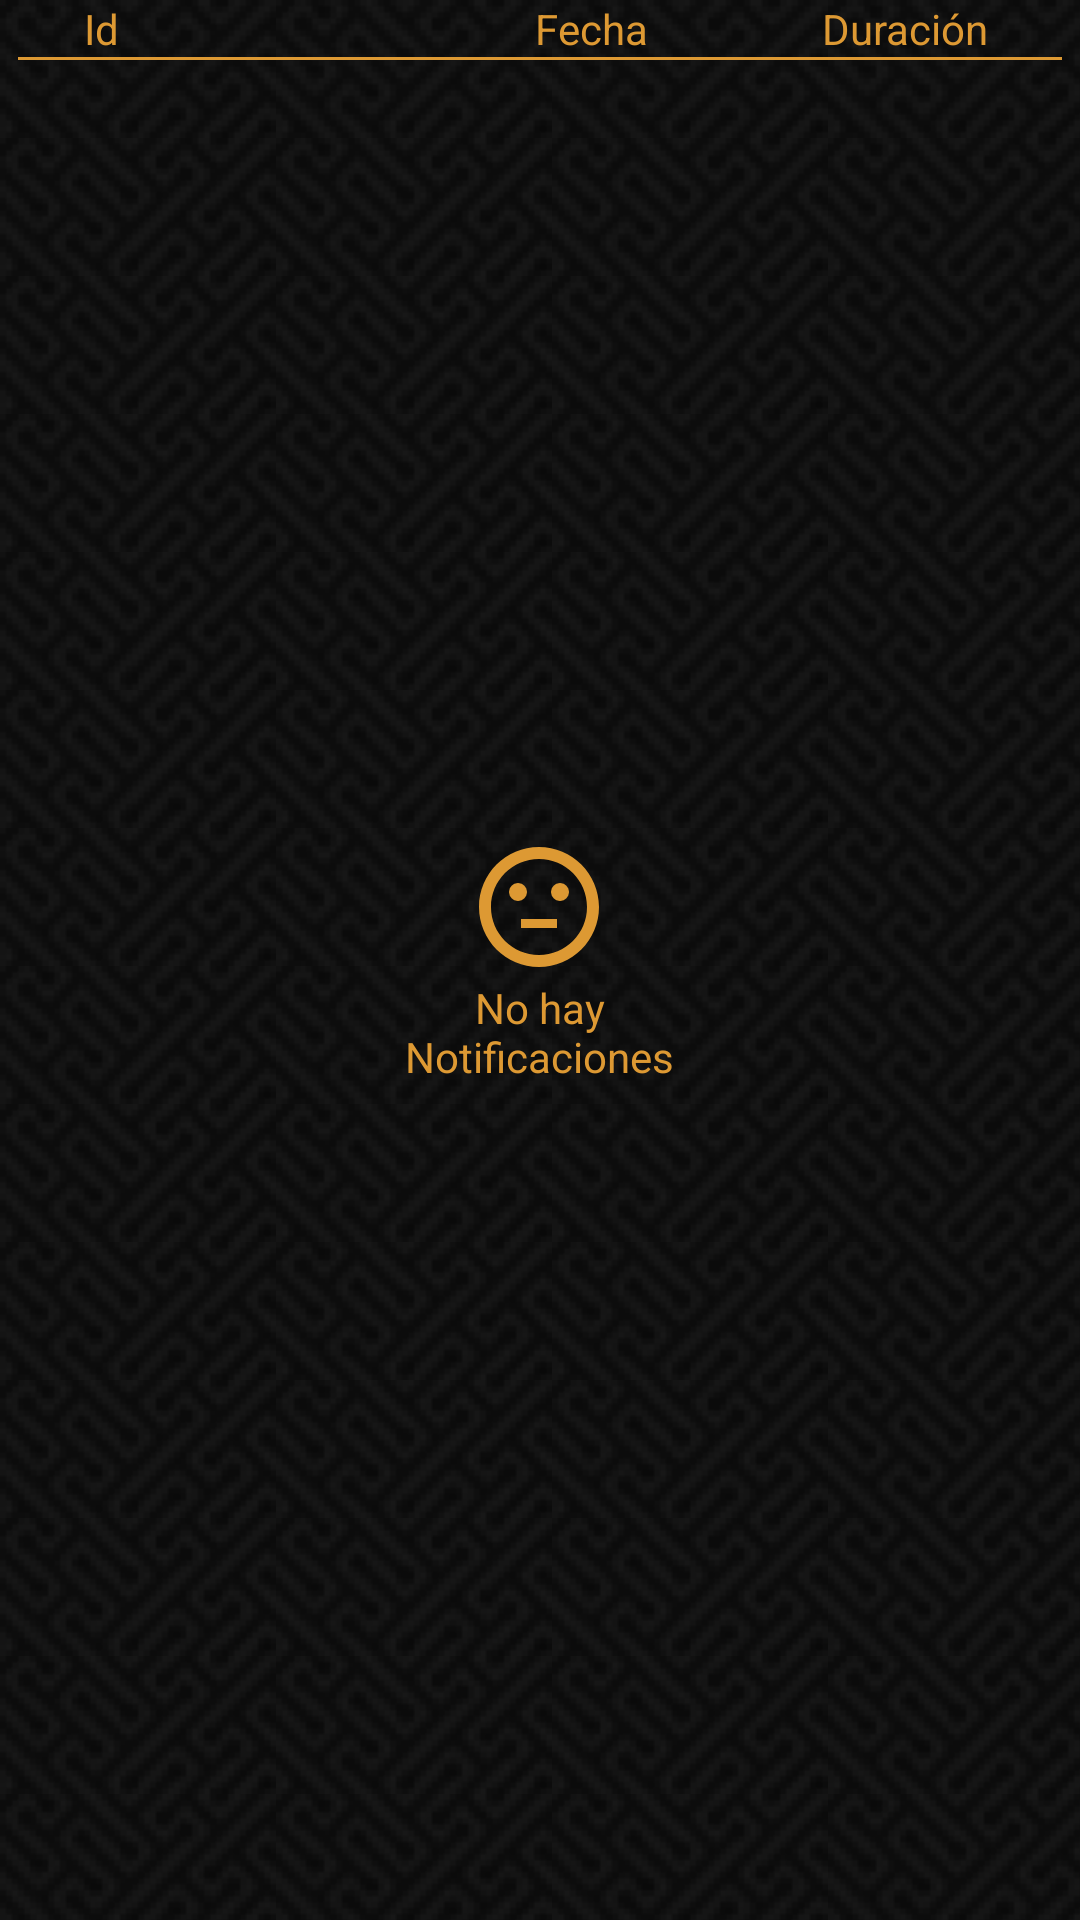

Icons on this 1080*1920 Android screen, each with its box as (x1, y1, x2, y2):
sentiment neutral: (479, 847, 599, 967)
